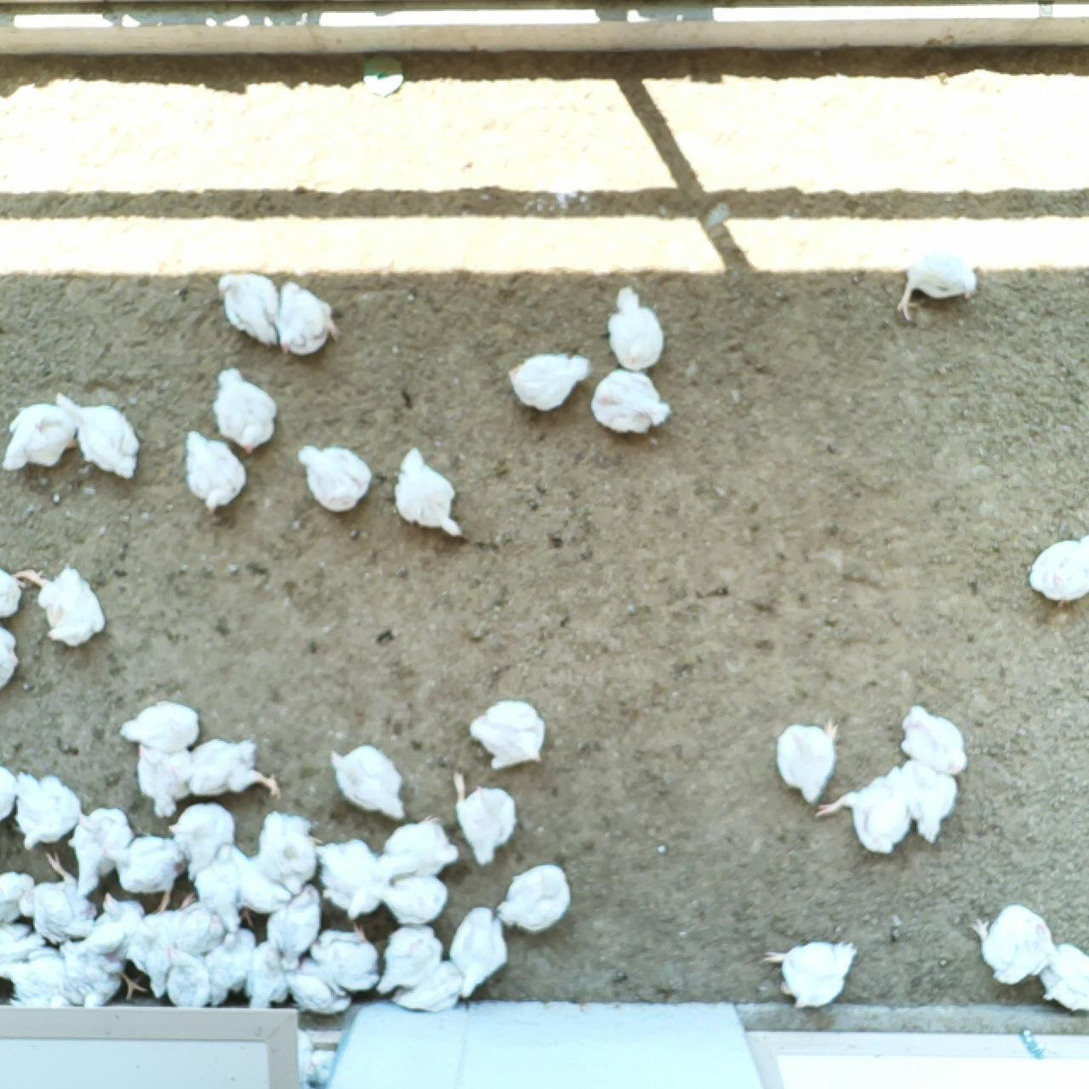chicken: (463, 691, 558, 773), (324, 742, 426, 816), (270, 278, 362, 359), (390, 448, 461, 551), (59, 397, 145, 481), (10, 773, 84, 864), (209, 367, 292, 447), (885, 757, 966, 838), (590, 367, 677, 442), (63, 803, 134, 892), (296, 436, 369, 521), (246, 810, 319, 893), (185, 427, 246, 523), (975, 913, 1053, 988), (496, 345, 593, 405), (830, 772, 906, 848), (899, 705, 972, 784), (451, 783, 524, 862), (764, 943, 856, 1005), (902, 245, 987, 311), (1023, 525, 1089, 609), (772, 721, 836, 807), (119, 703, 212, 761), (310, 927, 390, 994), (380, 819, 459, 886), (317, 831, 379, 916), (162, 802, 234, 874), (25, 870, 107, 933), (451, 909, 511, 995), (597, 292, 664, 369), (3, 946, 84, 1009), (217, 270, 281, 348), (496, 869, 567, 938), (110, 833, 191, 891), (180, 734, 265, 789), (185, 861, 271, 915), (129, 743, 197, 808), (402, 961, 484, 1013), (369, 923, 435, 985), (270, 897, 322, 974), (163, 947, 225, 1011), (138, 912, 233, 953), (60, 943, 138, 992), (9, 413, 77, 467), (294, 958, 353, 1020), (199, 932, 257, 994), (1039, 941, 1089, 1008), (244, 939, 288, 1015), (385, 872, 454, 919), (79, 911, 145, 954), (28, 561, 74, 619), (1, 862, 39, 926), (0, 569, 33, 622), (0, 624, 19, 695)
